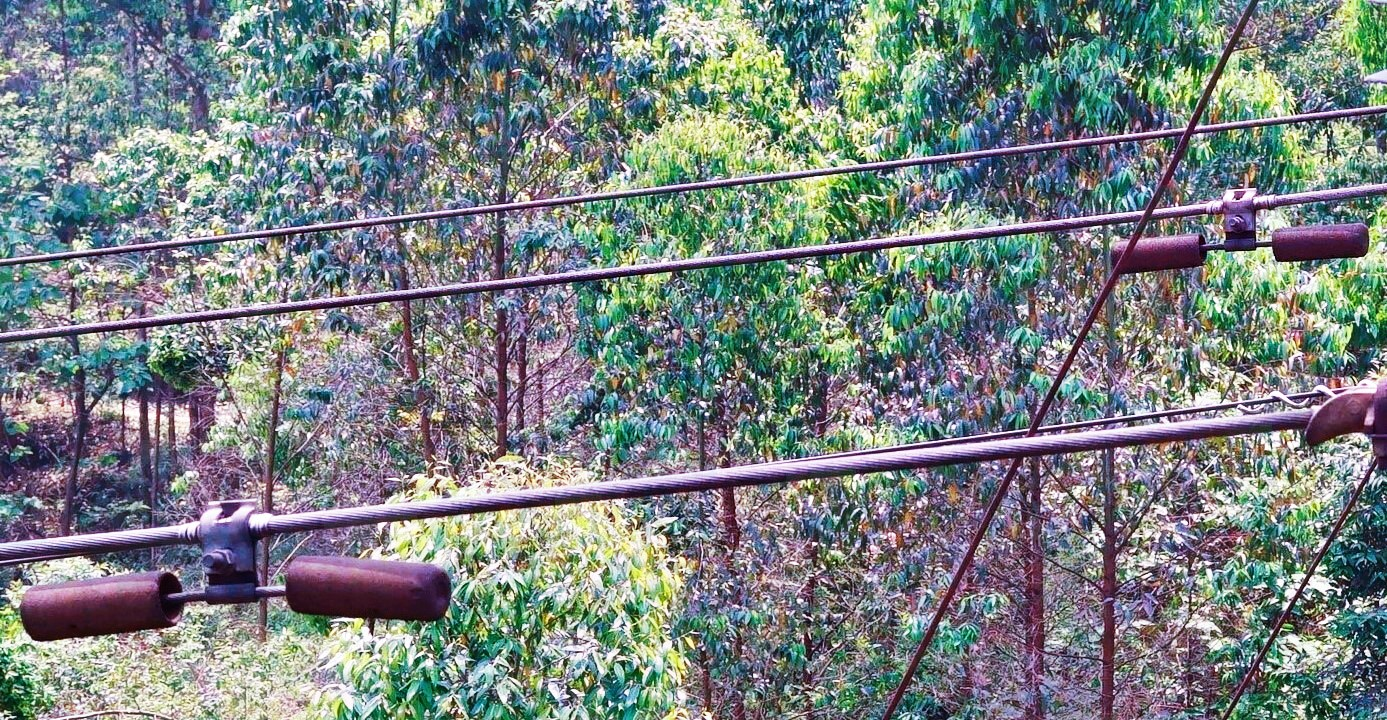Shockproof hammer: (13, 487, 457, 648), (1102, 177, 1373, 277)
